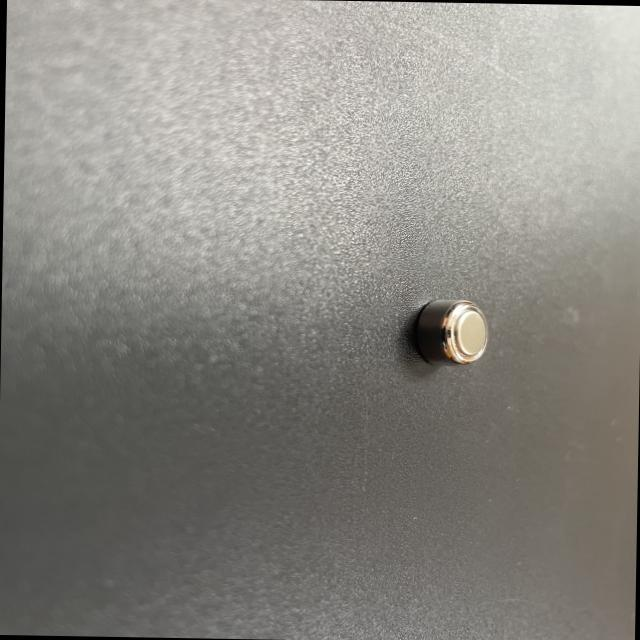COIN: (408, 297, 490, 368)
